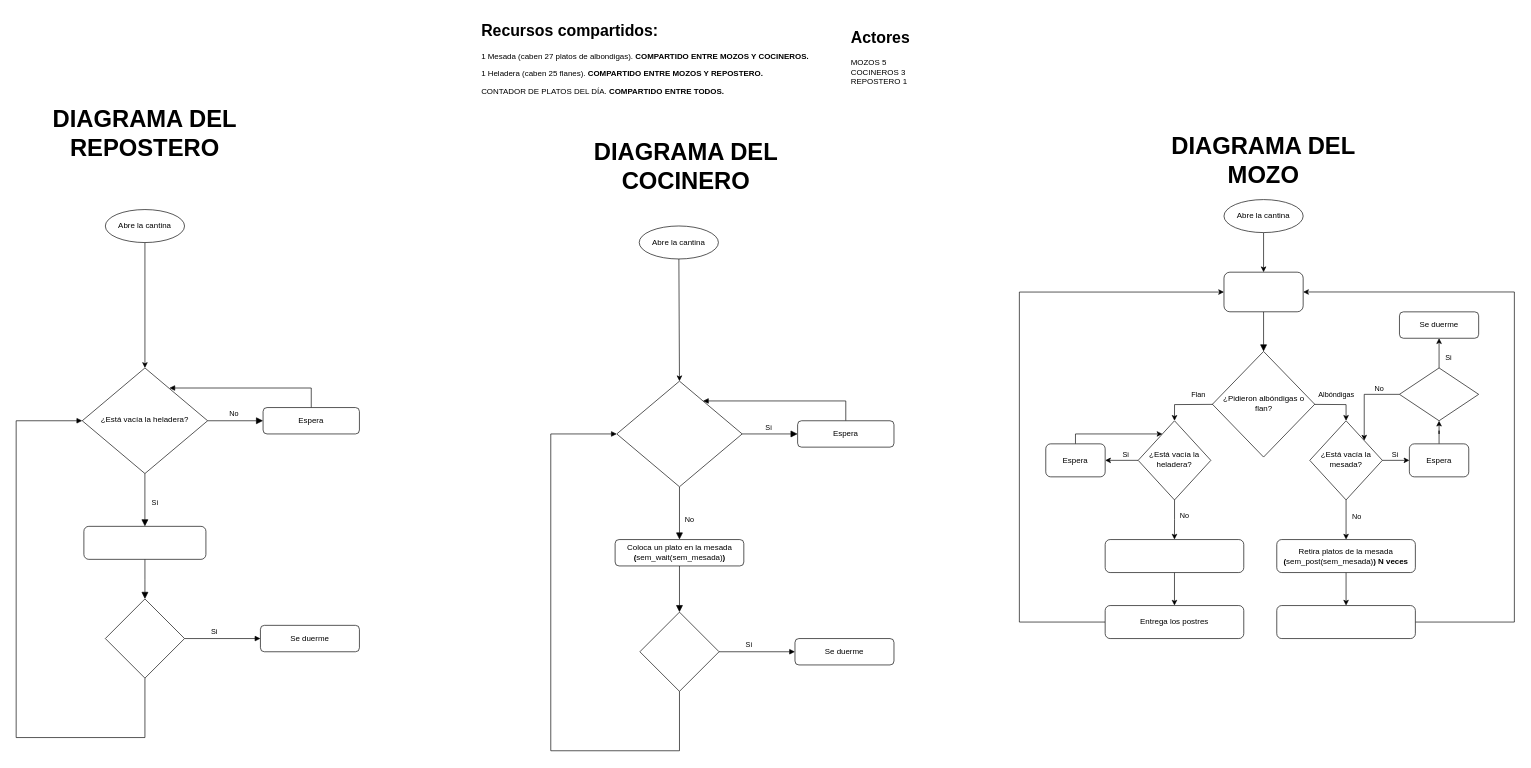
This 1531x768 diagram has some shape labels left out. Each missing label, with the centre of its shape:
Entrega los platos: [1345,622]
Llena la heladera ( sem_wait(sem_heladera) ): [144,542]
Retira postres de la heladera ( sem_post(sem_heladera) ) N veces: [1174,556]
Toma una órden: [1263,292]
¿Es el plato numero 180 del día?: [679,651]
¿Está llena la mesada?: [679,433]
¿Ya se han preparado 180 platos?: [1439,394]
¿Ya se hicieron los 180 platos del día?: [145,638]
